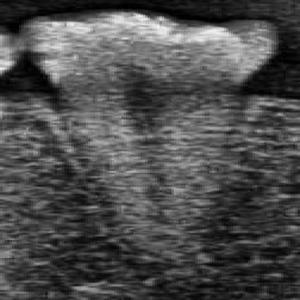tooth: (24, 10, 278, 235)
